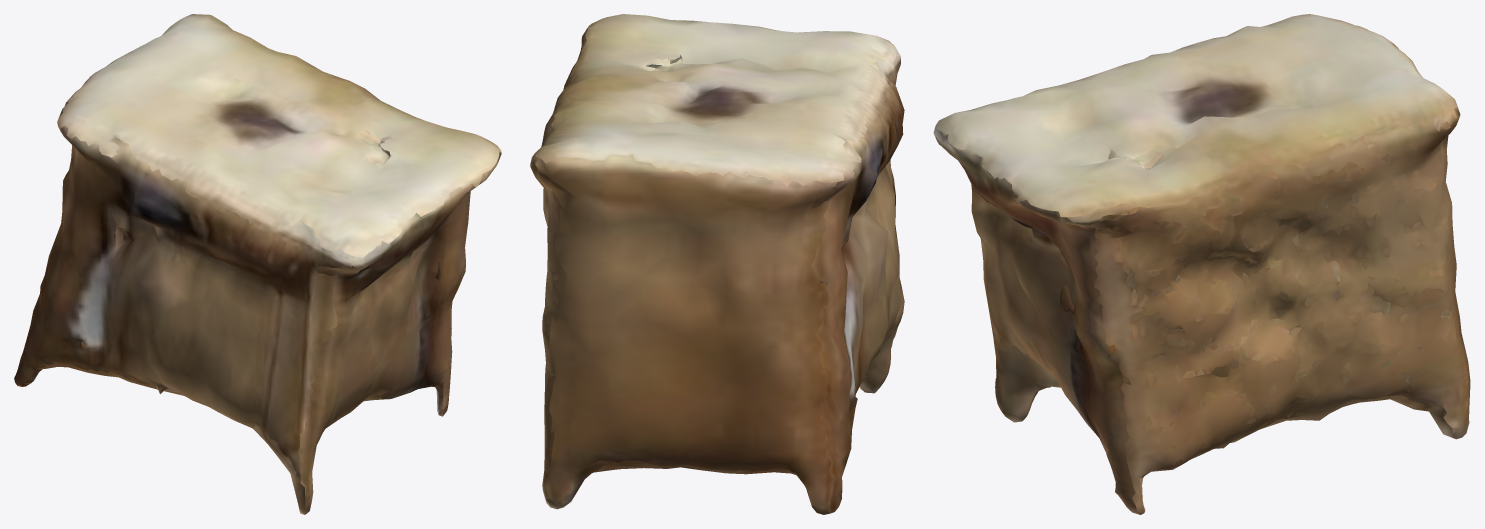
File: 21_chair.glb
3 renders of one model, left to right at view 1: azimuth 30°, elevation 25°; view 2: azimuth 150°, elevation 25°; view 3: azimuth 270°, elevation 25°, orthographic. The views are drawn at different scales.
Visible parts, largest first — view 1: 21_chair; view 2: 21_chair; view 3: 21_chair.
Boxes of the visible parts, box(x1,y1,x2,y2) form: 21_chair: box(14, 14, 501, 514); 21_chair: box(530, 14, 904, 514); 21_chair: box(933, 14, 1470, 514).
Bounding box in the file's own units: 0.669 × 0.6218 × 0.8049.
1 material, 1 textured.
